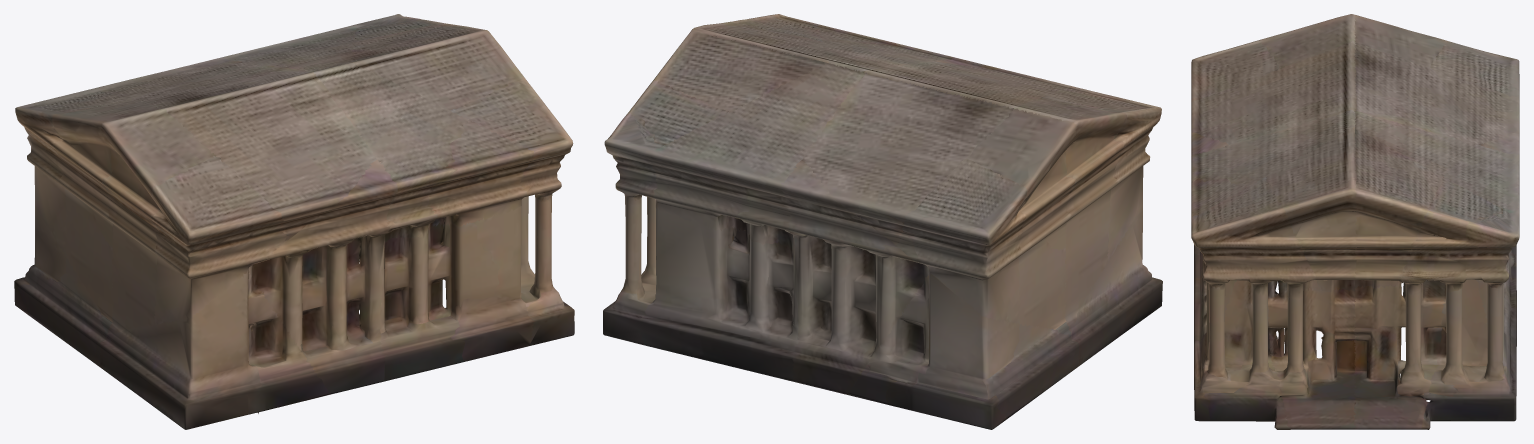
File: courthouse.glb
3 renders of one model, left to right at view 1: azimuth 30°, elevation 25°; view 2: azimuth 150°, elevation 25°; view 3: azimuth 270°, elevation 25°, orthographic. The views are drawn at different scales.
Parts seen in each view (by area): view 1: tripo_node_095f6160-fc08-4452-b28f-e84f49d83123; view 2: tripo_node_095f6160-fc08-4452-b28f-e84f49d83123; view 3: tripo_node_095f6160-fc08-4452-b28f-e84f49d83123.
Boxes of the visible parts, x1,y1,x2,y2 form: tripo_node_095f6160-fc08-4452-b28f-e84f49d83123: (14,14,574,429); tripo_node_095f6160-fc08-4452-b28f-e84f49d83123: (603,14,1162,429); tripo_node_095f6160-fc08-4452-b28f-e84f49d83123: (1191,14,1519,429).
Bounding box in the file's own units: 0.9492 × 0.556 × 0.7007.
Materials: 1 (1 with a texture image).
